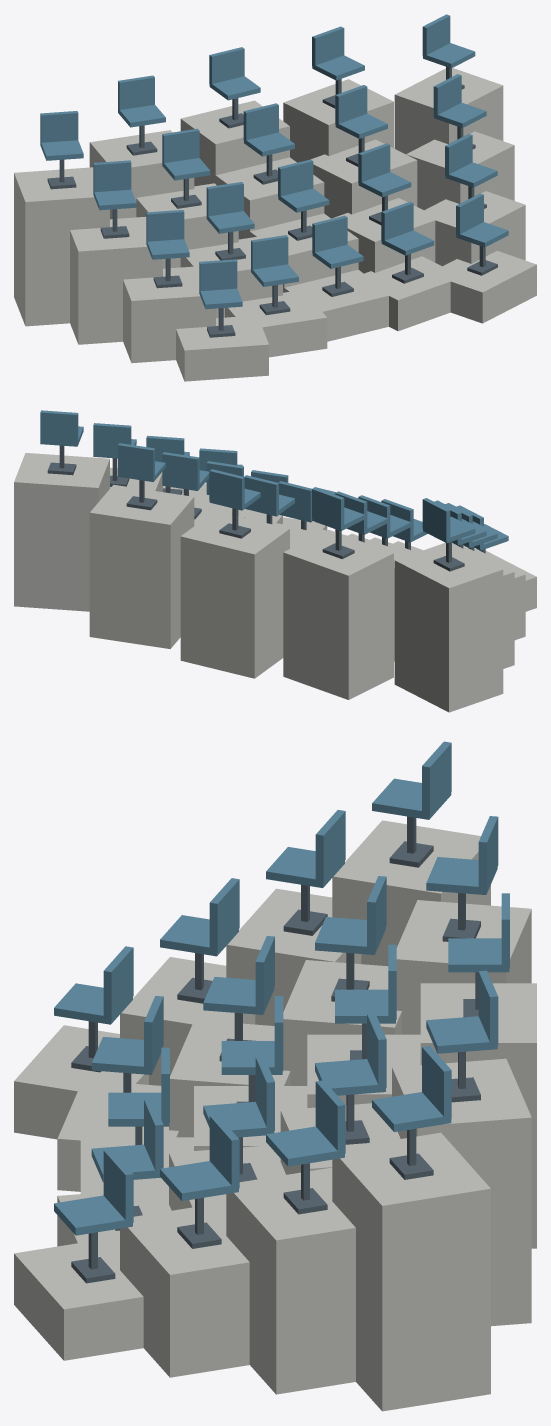
File: american-football-stadium-kit-curved-seating-sector-332f9895__22347.glb
The picture shows the model from 3 angles, top to bottom: view 1: azimuth 30°, elevation 25°; view 2: azimuth 150°, elevation 25°; view 3: azimuth 270°, elevation 25°; orthographic projection. The views are drawn at different scales.
Visible parts, largest first — view 1: curved-seating-sector; view 2: curved-seating-sector; view 3: curved-seating-sector.
Boxes of the visible parts, <box> form: curved-seating-sector: <box>14,14,536,381</box>; curved-seating-sector: <box>14,410,536,712</box>; curved-seating-sector: <box>14,741,536,1411</box>.
Bounding box in the file's own units: 6.44 × 2.43 × 3.69.
